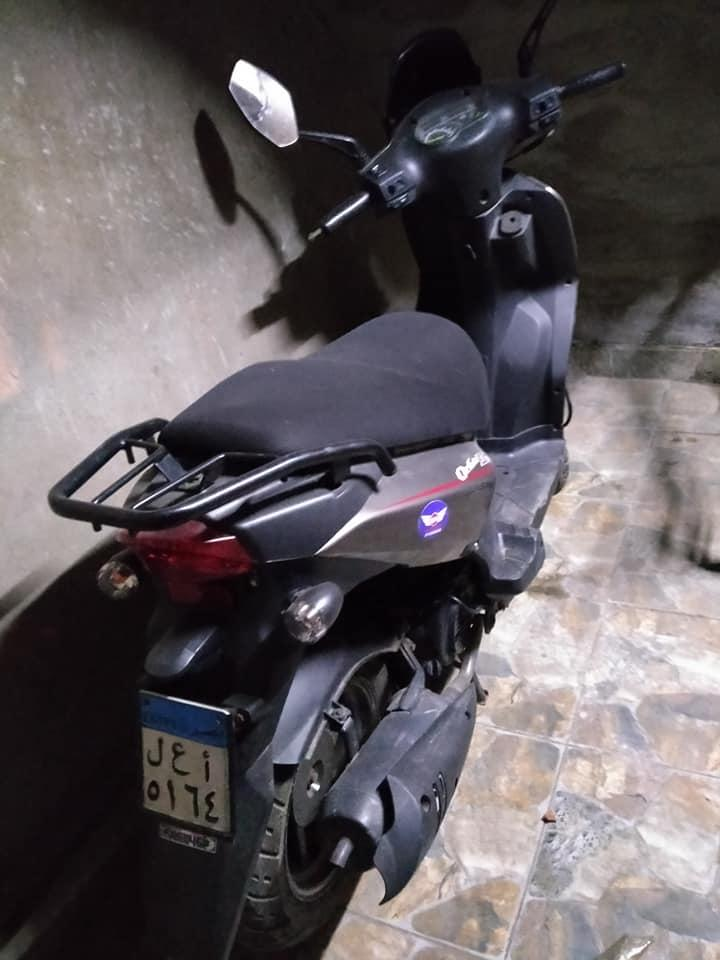License Plate: (136, 687, 240, 838)
